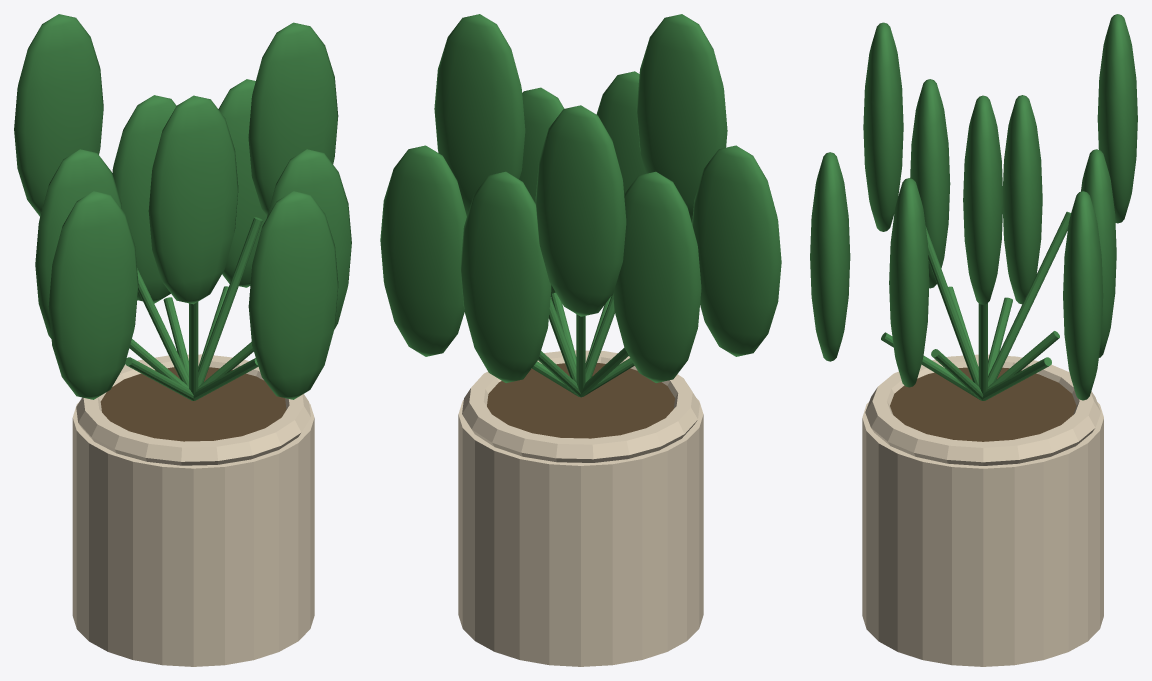
File: potted_plant_cream.glb
3 renders of one model, left to right at view 1: azimuth 30°, elevation 25°; view 2: azimuth 150°, elevation 25°; view 3: azimuth 270°, elevation 25°, orthographic.
Visible parts, largest first — view 1: planter, broad leaf.005, broad leaf.007, broad leaf.006, broad leaf.003, broad leaf, soil, pot lip, broad leaf.002, broad leaf.004, broad leaf.008, broad leaf.001 (+8 smaller); view 2: planter, broad leaf.003, broad leaf.002, broad leaf.005, broad leaf.001, broad leaf.004, broad leaf, broad leaf.006, soil, pot lip, broad leaf.007, broad leaf.008 (+3 smaller); view 3: planter, soil, pot lip, broad leaf, broad leaf.006, broad leaf.008, broad leaf.007, broad leaf.001, broad leaf.004, broad leaf.003, broad leaf.005, broad leaf.002 (+8 smaller).
Boxes of the visible parts, x1=… form: planter: x1=72, y1=401, x2=314, y2=666; broad leaf.005: x1=48, y1=191, x2=138, y2=399; broad leaf.007: x1=248, y1=191, x2=338, y2=399; broad leaf.006: x1=148, y1=95, x2=238, y2=304; broad leaf.003: x1=14, y1=14, x2=103, y2=216; broad leaf: x1=248, y1=22, x2=338, y2=215; soil: x1=100, y1=367, x2=286, y2=441; pot lip: x1=76, y1=354, x2=310, y2=465; broad leaf.002: x1=112, y1=95, x2=176, y2=303; broad leaf.004: x1=35, y1=149, x2=121, y2=338; broad leaf.008: x1=267, y1=149, x2=351, y2=329; broad leaf.001: x1=218, y1=79, x2=267, y2=287; planter: x1=458, y1=399, x2=703, y2=666; broad leaf.003: x1=535, y1=105, x2=626, y2=316; broad leaf.002: x1=460, y1=171, x2=551, y2=382; broad leaf.005: x1=692, y1=145, x2=781, y2=356; broad leaf.001: x1=380, y1=145, x2=466, y2=356; broad leaf.004: x1=613, y1=171, x2=701, y2=382; broad leaf: x1=434, y1=14, x2=525, y2=215; broad leaf.006: x1=636, y1=14, x2=727, y2=222; soil: x1=487, y1=363, x2=674, y2=438; pot lip: x1=462, y1=350, x2=699, y2=462; broad leaf.007: x1=596, y1=71, x2=645, y2=193; broad leaf.008: x1=519, y1=87, x2=564, y2=296; planter: x1=862, y1=402, x2=1103, y2=666; soil: x1=890, y1=367, x2=1076, y2=441; pot lip: x1=865, y1=354, x2=1100, y2=465; broad leaf: x1=963, y1=95, x2=1003, y2=304; broad leaf.006: x1=863, y1=22, x2=903, y2=231; broad leaf.008: x1=889, y1=178, x2=929, y2=387; broad leaf.007: x1=810, y1=152, x2=850, y2=361; broad leaf.001: x1=1063, y1=191, x2=1103, y2=400; broad leaf.004: x1=1003, y1=95, x2=1042, y2=304; broad leaf.003: x1=1097, y1=14, x2=1137, y2=223; broad leaf.005: x1=910, y1=79, x2=950, y2=288; broad leaf.002: x1=1081, y1=149, x2=1116, y2=357.
Bounding box in the file's own units: 0.6405 × 1.09 × 0.5697.
